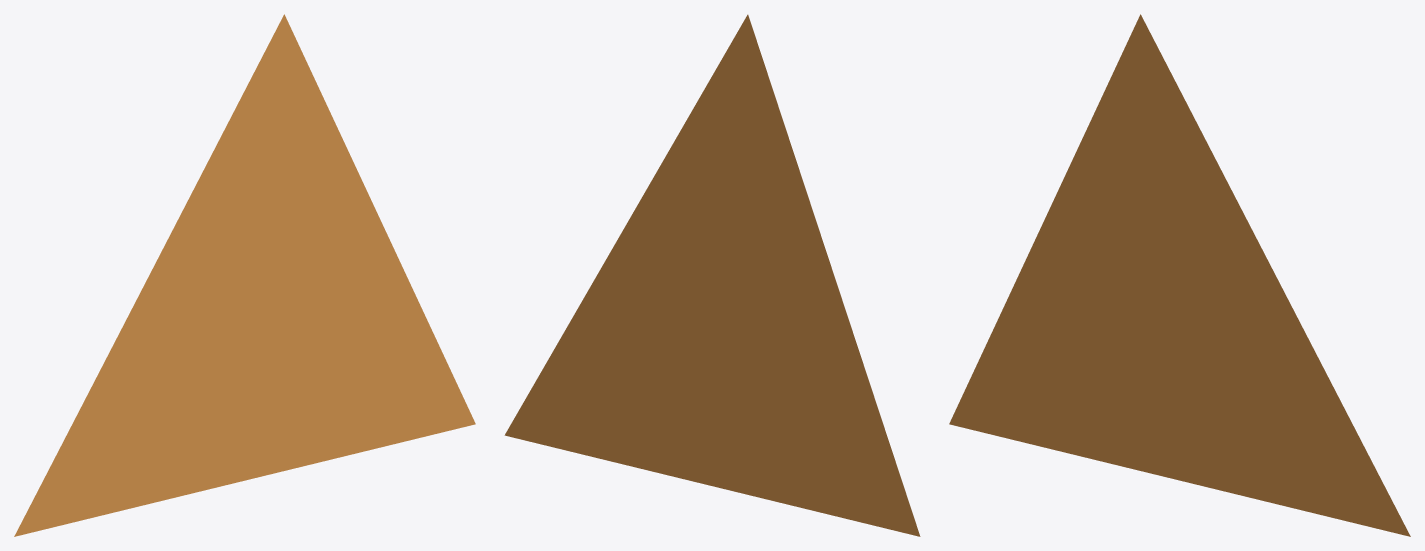
The model's file is external-parity-morph-expression.gltf.
The picture shows the model from 3 angles, left to right: view 1: azimuth 30°, elevation 25°; view 2: azimuth 150°, elevation 25°; view 3: azimuth 330°, elevation 25°; orthographic projection. The views are drawn at different scales.
Visible parts, largest first — view 1: morph-node; view 2: morph-node; view 3: morph-node.
Part boxes in pixels (x1,y1,x2,y2): morph-node: [14, 14, 475, 536]; morph-node: [504, 14, 920, 536]; morph-node: [949, 14, 1410, 536].
Bounding box in the file's own units: 1.1 × 1.13 × 0.1625.
